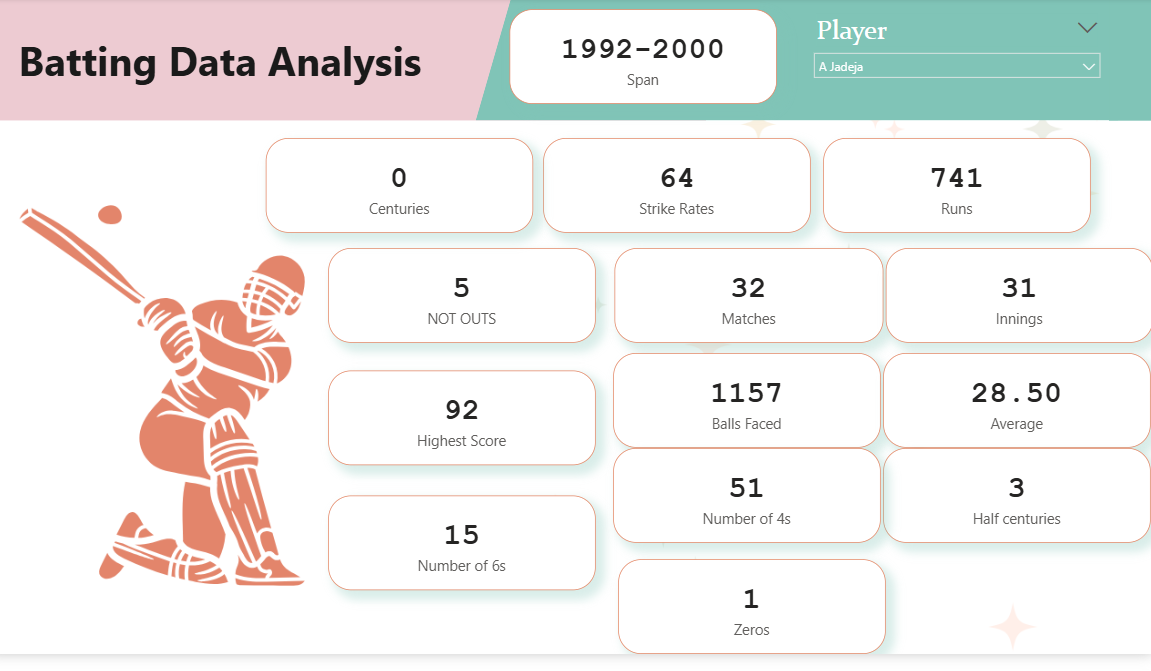

What the dashboard file says about the page in this screenshot:
{"tool":"powerbi","page":{"name":"Batting","canvas":[1280,720],"ordinal":0},"visuals":[{"type":"shape","box":[9.6,0,779.4,134.5],"z":0},{"type":"shape","box":[536.5,0,743.7,134.5],"z":1000},{"type":"shape","box":[536.5,0,743.7,134.5],"z":2000},{"type":"shape","box":[1232.3,0,48,134.5],"z":3000},{"type":"slicer","fields":{"Values":["BowlingFinal.Player"]},"box":[897.4,12.3,334.8,105.7],"z":4000},{"type":"card","fields":{"Values":["BattingFinal.Span"]},"box":[573.6,12.3,293.7,104.3],"z":5000},{"type":"shape","box":[1232,0,48,134.5],"z":6000},{"type":"card","fields":{"Values":["BattingFinal.SR"]},"box":[610,153.7,293.7,104.3],"z":7000},{"type":"card","fields":{"Values":["BattingFinal.Runs"]},"box":[918,153.7,293.7,104.3],"z":8000},{"type":"card","fields":{"Values":["BattingFinal.NO"]},"box":[374.6,274.4,293.7,104.3],"z":9000},{"type":"card","fields":{"Values":["BattingFinal.Mat"]},"box":[688.9,274.4,295,104.3],"z":10000},{"type":"card","fields":{"Values":["BattingFinal.Inns"]},"box":[986.3,274.4,293.7,104.3],"z":11000},{"type":"card","fields":{"Values":["BattingFinal.HS"]},"box":[374.6,408.9,293.7,104.3],"z":12000},{"type":"card","fields":{"Values":["BattingFinal.BF"]},"box":[687.5,389.7,293.7,104.3],"z":13000},{"type":"card","fields":{"Values":["BattingFinal.Ave"]},"box":[983.9,389.7,293.7,104.3],"z":14000},{"type":"card","fields":{"Values":["BattingFinal.6s"]},"box":[374.6,546.1,293.7,104.3],"z":15000},{"type":"card","fields":{"Values":["BattingFinal.50"]},"box":[983.9,494,293.7,104.3],"z":16000},{"type":"card","fields":{"Values":["BattingFinal.4s"]},"box":[687.5,494,293.7,104.3],"z":17000},{"type":"card","fields":{"Values":["BattingFinal.100"]},"box":[306,153.7,293.7,104.3],"z":18000},{"type":"card","fields":{"Values":["BattingFinal.0"]},"box":[693,616.1,293.7,104.3],"z":19000}]}

Visuals, with their boxes on the page's 1280x720 design canvas (x1, y1, x2, y2). These are canvas units, not pixel positions in the 1151x671 screenshot, which may show the page scaled, cropped or inside an application window:
shape: <box>10,0,789,134</box>
shape: <box>536,0,1280,134</box>
shape: <box>536,0,1280,134</box>
shape: <box>1232,0,1280,134</box>
slicer - BowlingFinal.Player: <box>897,12,1232,118</box>
card - BattingFinal.Span: <box>574,12,867,117</box>
shape: <box>1232,0,1280,134</box>
card - BattingFinal.SR: <box>610,154,904,258</box>
card - BattingFinal.Runs: <box>918,154,1212,258</box>
card - BattingFinal.NO: <box>375,274,668,379</box>
card - BattingFinal.Mat: <box>689,274,984,379</box>
card - BattingFinal.Inns: <box>986,274,1280,379</box>
card - BattingFinal.HS: <box>375,409,668,513</box>
card - BattingFinal.BF: <box>688,390,981,494</box>
card - BattingFinal.Ave: <box>984,390,1278,494</box>
card - BattingFinal.6s: <box>375,546,668,650</box>
card - BattingFinal.50: <box>984,494,1278,598</box>
card - BattingFinal.4s: <box>688,494,981,598</box>
card - BattingFinal.100: <box>306,154,600,258</box>
card - BattingFinal.0: <box>693,616,987,720</box>
